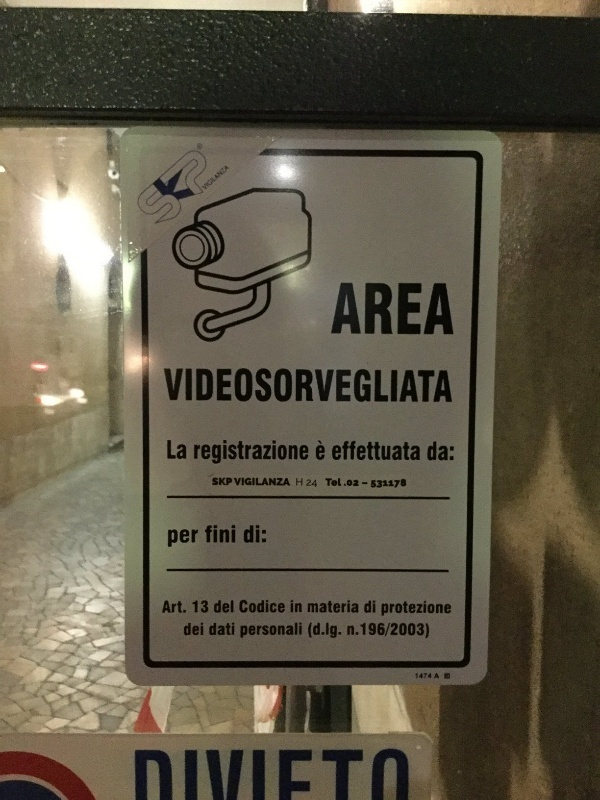text: (145, 137, 160, 239), (161, 137, 176, 239), (177, 137, 192, 239), (193, 137, 208, 239), (209, 137, 224, 239), (132, 137, 144, 239), (353, 279, 368, 339), (369, 279, 384, 339), (385, 279, 400, 339), (401, 279, 416, 339), (417, 279, 432, 339), (433, 279, 448, 339), (129, 740, 144, 800), (145, 740, 160, 800), (161, 740, 176, 800), (177, 740, 192, 800), (193, 740, 208, 800), (209, 740, 224, 800), (225, 740, 240, 800), (241, 740, 256, 800), (257, 740, 272, 800), (273, 740, 288, 800), (289, 740, 304, 800), (305, 740, 320, 800), (321, 740, 336, 800), (337, 740, 352, 800), (353, 740, 368, 800), (369, 740, 384, 800), (385, 740, 400, 800), (340, 279, 352, 339), (225, 137, 232, 239), (177, 366, 192, 406), (193, 366, 208, 406), (209, 366, 224, 406), (225, 366, 240, 406), (241, 366, 256, 406), (257, 366, 272, 406), (273, 366, 288, 406), (289, 366, 304, 406), (305, 366, 320, 406), (321, 366, 336, 406), (337, 366, 352, 406), (353, 366, 368, 406), (369, 366, 384, 406), (385, 366, 400, 406), (401, 366, 416, 406), (417, 366, 432, 406), (433, 366, 448, 406), (401, 740, 411, 800), (162, 366, 176, 406), (449, 279, 456, 339), (209, 163, 224, 191), (209, 439, 224, 467), (225, 439, 240, 467), (241, 439, 256, 467), (257, 439, 272, 467), (273, 439, 288, 467), (289, 439, 304, 467), (194, 439, 208, 467), (177, 526, 192, 552), (433, 439, 448, 463), (209, 522, 224, 546), (337, 439, 352, 462), (353, 439, 368, 462), (369, 439, 384, 462), (385, 439, 400, 462), (401, 439, 416, 462), (243, 520, 256, 546), (449, 366, 457, 406), (241, 597, 256, 618), (257, 597, 272, 618), (321, 598, 336, 619), (337, 598, 352, 619), (321, 621, 336, 642), (337, 621, 352, 642), (353, 621, 368, 642), (369, 621, 384, 642), (385, 621, 400, 642), (401, 621, 416, 642), (417, 621, 432, 642), (225, 522, 238, 546), (209, 620, 224, 640), (241, 621, 256, 641), (257, 621, 272, 641), (273, 621, 288, 641), (289, 621, 304, 641), (273, 597, 287, 618), (193, 597, 208, 616), (385, 600, 400, 619), (401, 600, 416, 619), (417, 600, 432, 619), (433, 600, 448, 619), (177, 436, 188, 461), (163, 597, 176, 618), (307, 598, 320, 619), (307, 621, 320, 642), (290, 598, 304, 617), (257, 520, 267, 546), (166, 436, 176, 461), (225, 620, 237, 640), (167, 526, 176, 552), (177, 597, 188, 618), (193, 621, 205, 640), (213, 597, 224, 617), (225, 597, 235, 617), (201, 163, 208, 191), (369, 596, 378, 617), (183, 621, 192, 640), (225, 163, 231, 191), (306, 477, 320, 489), (241, 477, 256, 488), (257, 477, 272, 488), (273, 477, 288, 488), (385, 478, 400, 489), (193, 526, 199, 552), (353, 598, 360, 619), (371, 478, 384, 489), (305, 439, 310, 467), (315, 437, 320, 464), (321, 437, 326, 464), (212, 476, 224, 487), (197, 140, 208, 151), (325, 477, 336, 488), (427, 439, 432, 463), (449, 439, 454, 463), (331, 439, 336, 462), (337, 477, 347, 488), (363, 596, 368, 617), (417, 439, 421, 462), (225, 476, 233, 487), (296, 477, 304, 488), (233, 477, 240, 488), (380, 600, 384, 619), (205, 522, 208, 546), (353, 478, 360, 488), (401, 478, 407, 489), (449, 600, 452, 619), (347, 478, 352, 488), (361, 481, 368, 486), (289, 477, 292, 488), (239, 597, 240, 618)
